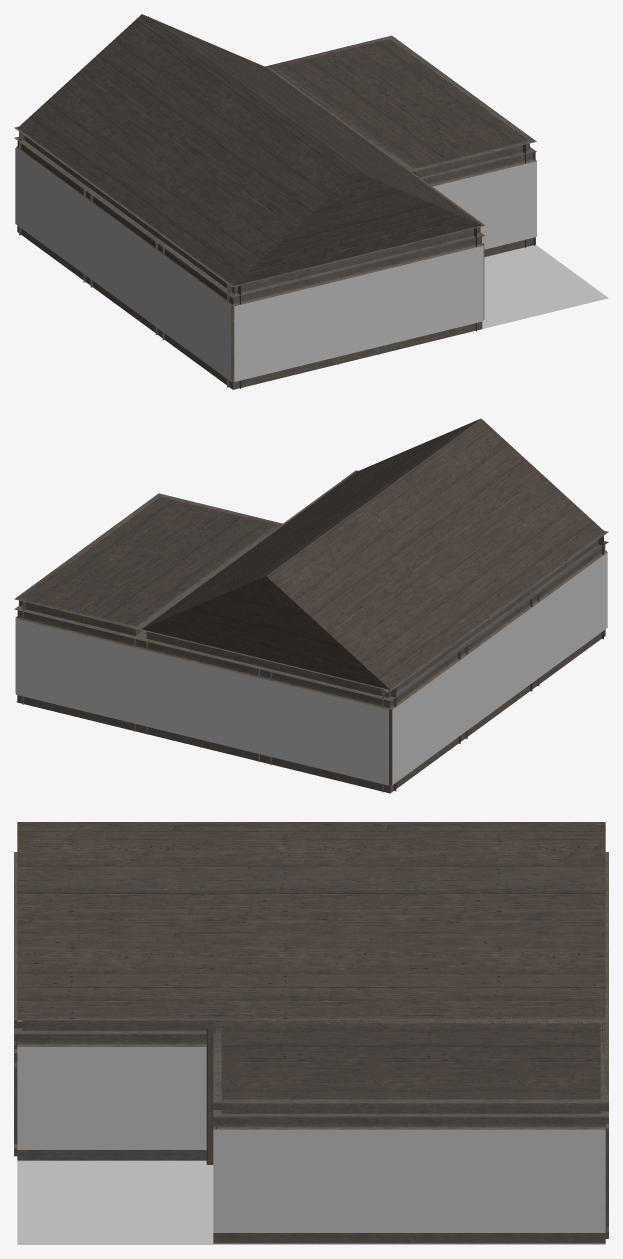
File: house_interior10.fbx
3 renders of one model, top to bottom at view 1: azimuth 30°, elevation 25°; view 2: azimuth 150°, elevation 25°; view 3: azimuth 270°, elevation 25°, orthographic. The views are drawn at different scales.
Parts seen in each view (by area): view 1: house_interior10; view 2: house_interior10; view 3: house_interior10.
Part boxes in pixels (x1=…): house_interior10: x1=14, y1=14, x2=608, y2=389; house_interior10: x1=14, y1=418, x2=608, y2=793; house_interior10: x1=14, y1=822, x2=608, y2=1244.
Bounding box in the file's own units: 1517 × 720 × 1517.
